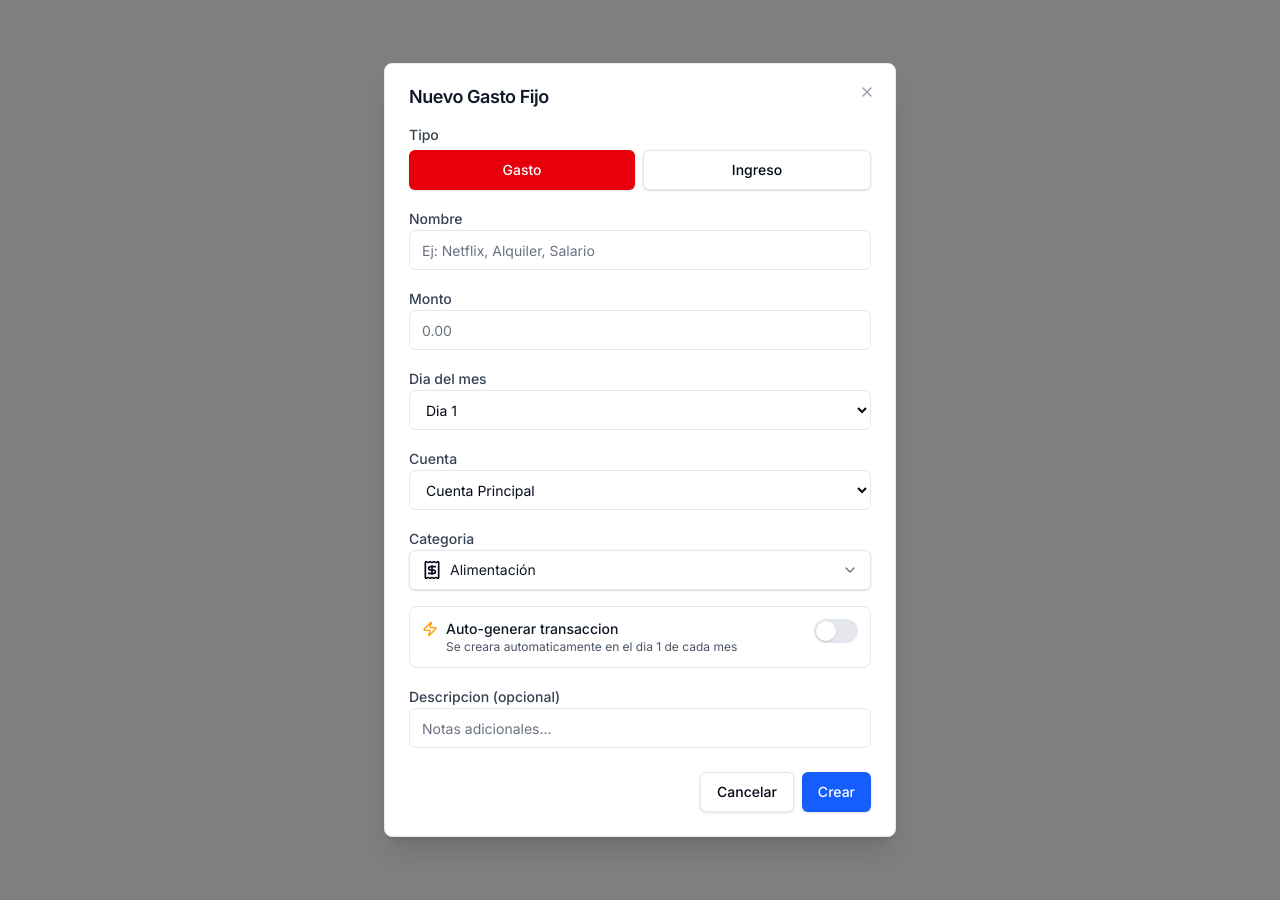
FixedExpenseForm › cambiar a Ingreso filtra las categorías y selecciona la primera de ingreso
This screenshot has width=1280, height=900.
Expected: the heading "Nuevo Gasto Fijo" is shown, [409,86,549,107]
Click the button "Ingreso" at (757, 170), box [643,150,871,190]
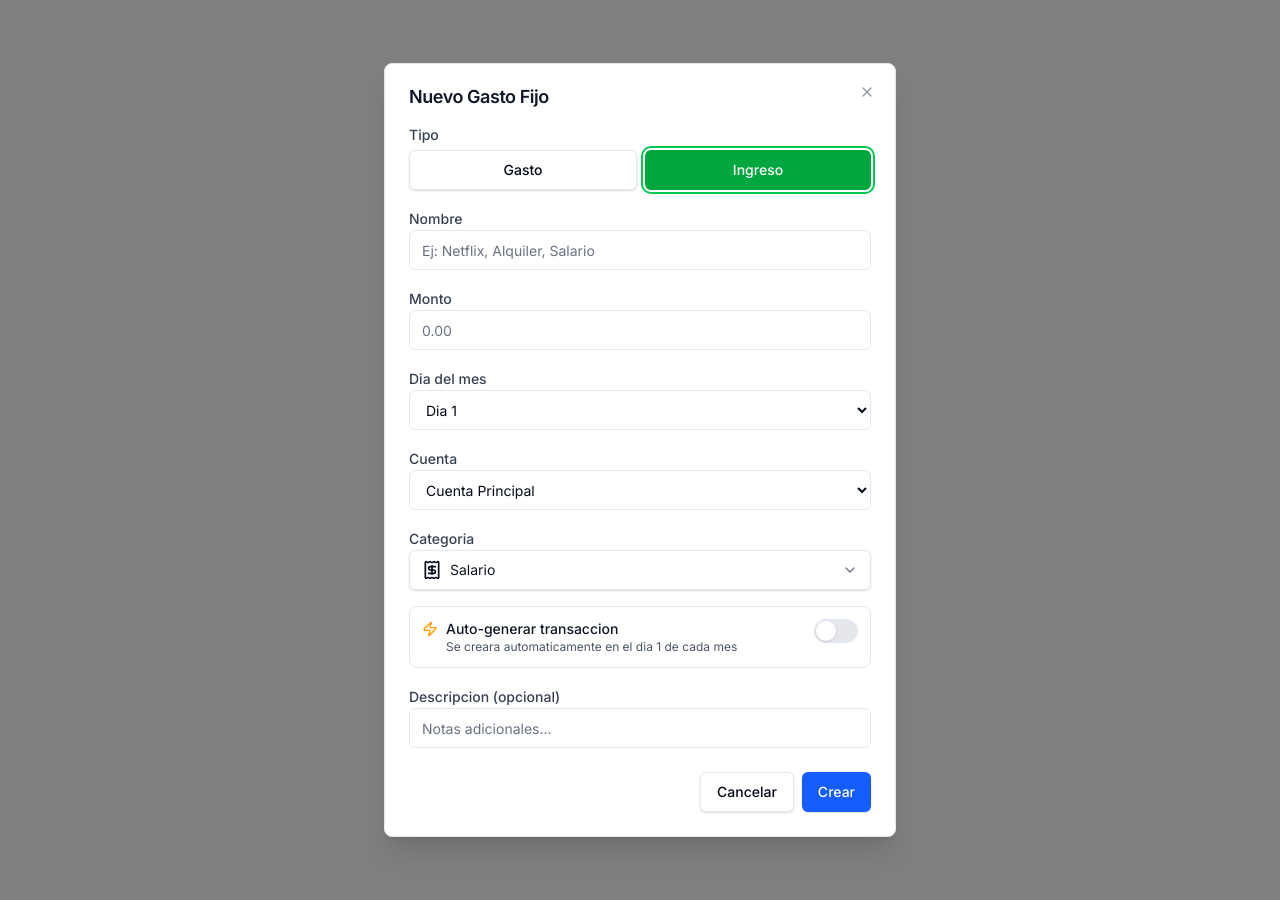
Expected: the text "Salario" is shown, [450,560,495,580]
Expected: the button "Alimentación" is gone
